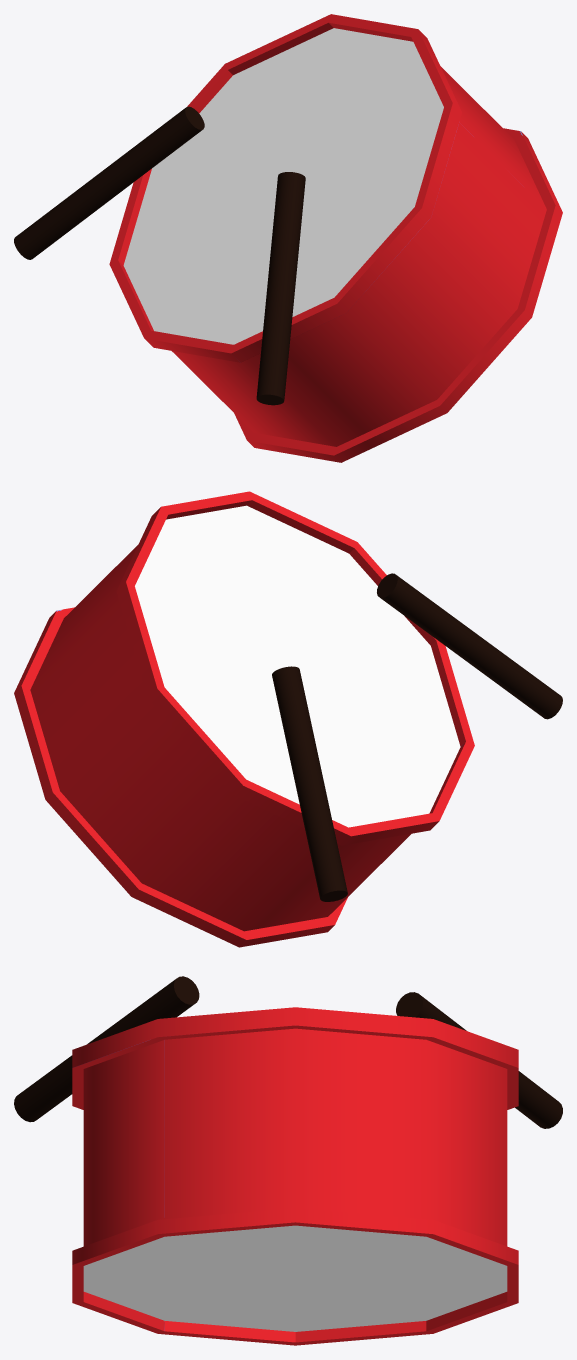
The model's file is A_SnareDrum_LowPoly.FBX.
3 views of the same model, one above another, from view 1: azimuth 30°, elevation 25°; view 2: azimuth 150°, elevation 25°; view 3: azimuth 270°, elevation 25° (orthographic). The views are drawn at different scales.
Parts seen in each view (by area): view 1: SD_Drum, DrumStick_Right, DrumStick_Left; view 2: SD_Drum, DrumStick_Left, DrumStick_Right; view 3: SD_Drum, DrumStick_Right, DrumStick_Left.
Boxes of the visible parts, left/top/right/bottom form: SD_Drum: left=109, top=14, right=562, bottom=462; DrumStick_Right: left=256, top=172, right=305, bottom=405; DrumStick_Left: left=14, top=106, right=204, bottom=259; SD_Drum: left=14, top=491, right=474, bottom=947; DrumStick_Left: left=272, top=666, right=347, bottom=901; DrumStick_Right: left=377, top=573, right=562, bottom=719; SD_Drum: left=72, top=1007, right=518, bottom=1345; DrumStick_Right: left=14, top=976, right=199, bottom=1122; DrumStick_Left: left=396, top=992, right=562, bottom=1128.
Size of the model in its own units: 66.21 by 59.51 by 69.04.
2 materials, 1 textured.
